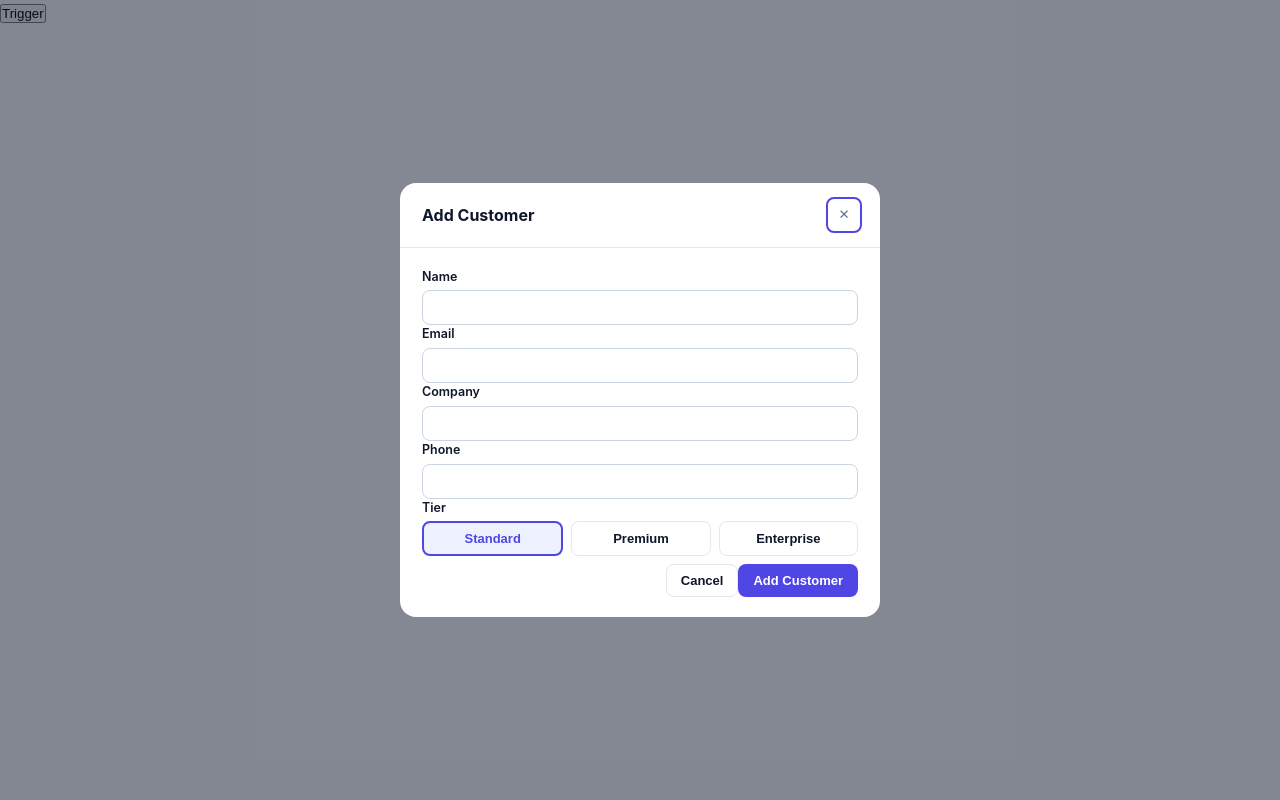
Test case: CustomerFormModal › requires an email or a phone
The image size is (1280, 800).
Type "Jane Doe" into the field labelled "Name" at (640, 308), box [422,290,858,325]
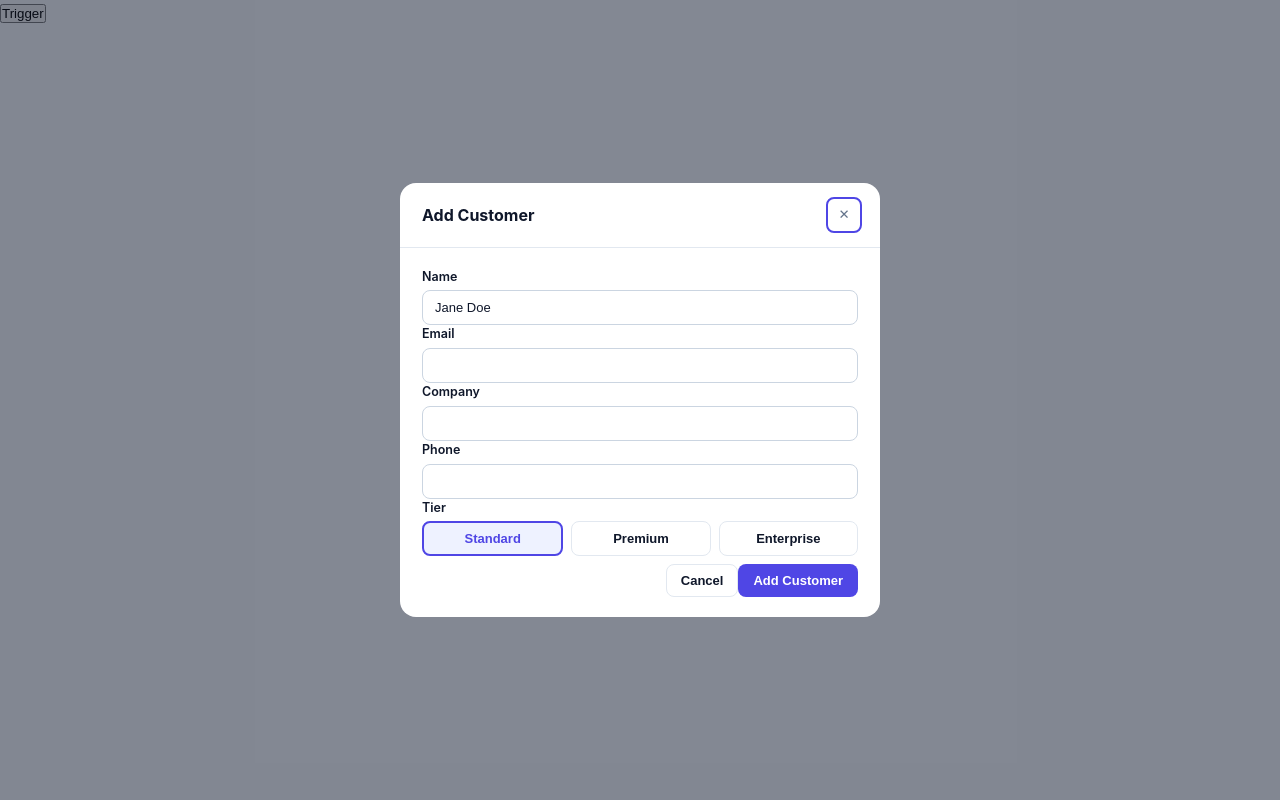
Click the button "Add Customer" at (798, 581), box [738,564,858,597]
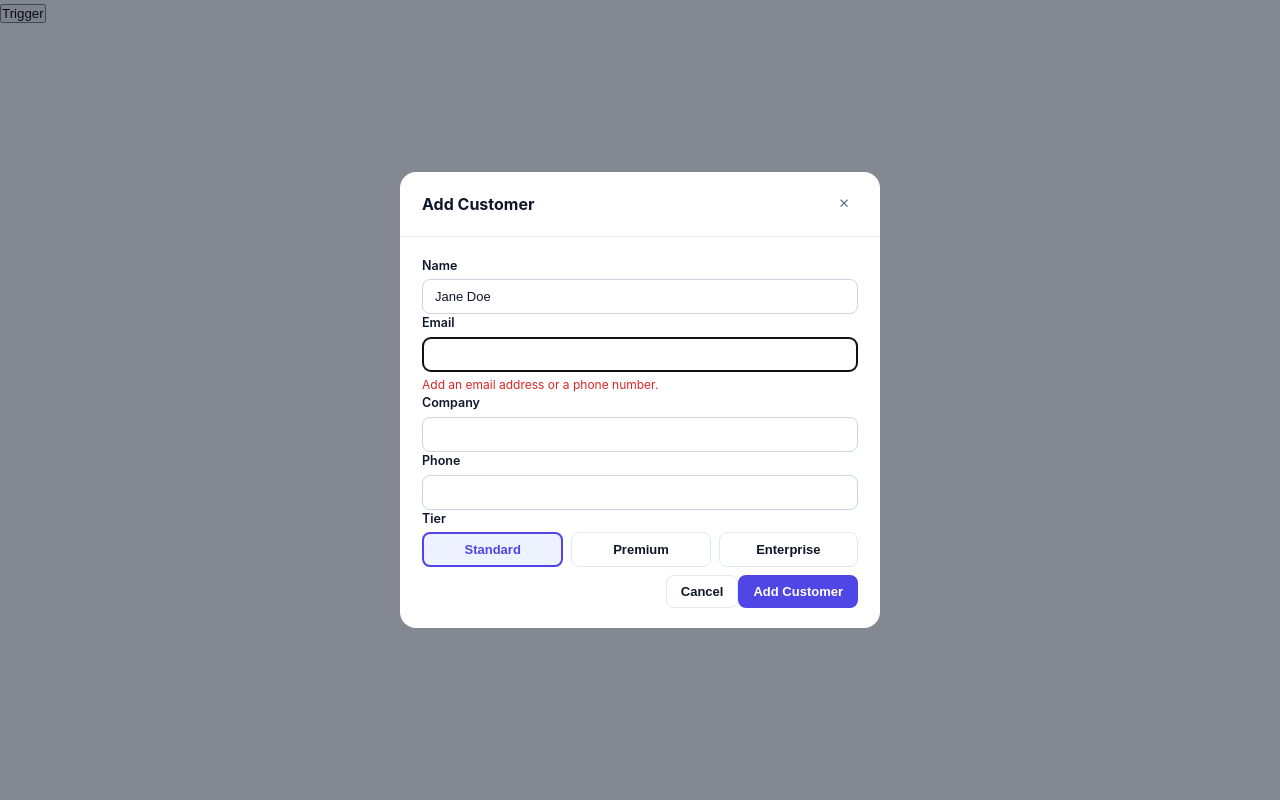
Result: the text "Add an email address or a phone number." is shown at [422,377,658,392]
